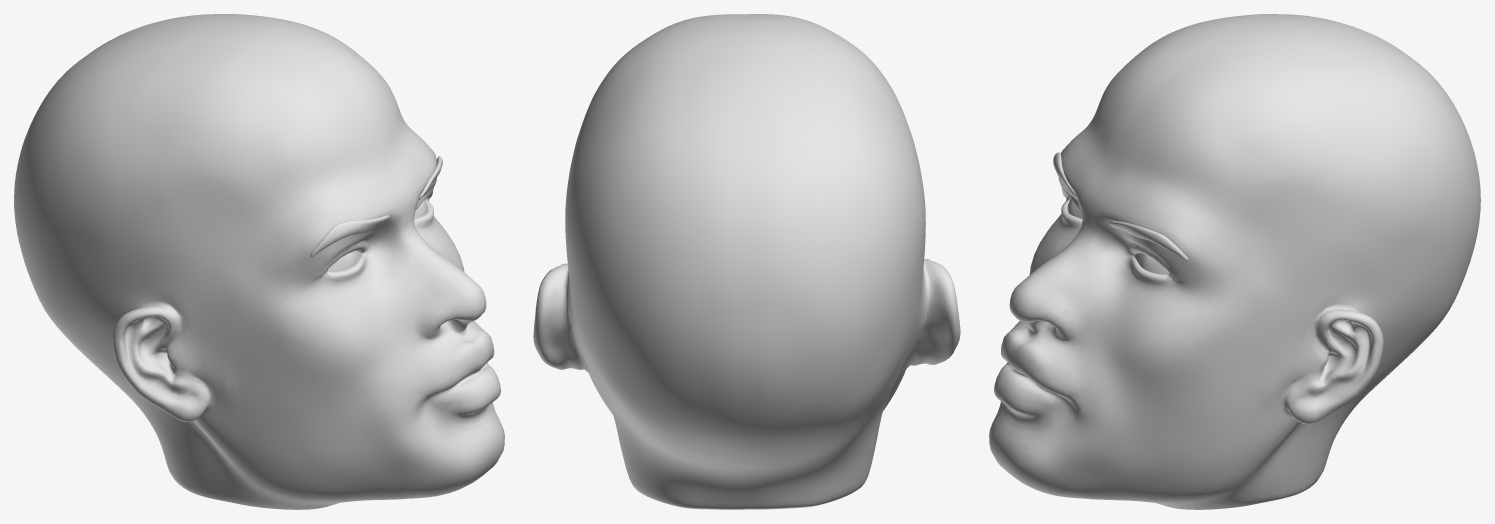
Rendered from 3D image.glb.
The picture shows the model from 3 angles, left to right: view 1: azimuth 30°, elevation 25°; view 2: azimuth 150°, elevation 25°; view 3: azimuth 270°, elevation 25°; orthographic projection. The views are drawn at different scales.
Visible parts, largest first — view 1: node_id41; view 2: node_id41; view 3: node_id41.
Part boxes in pixels (bbox=[...]): node_id41: bbox=[14, 14, 504, 509]; node_id41: bbox=[533, 14, 960, 509]; node_id41: bbox=[989, 14, 1480, 509].
Size of the model in its own units: 0.3869 by 0.4559 by 0.4777.
1 material, 1 textured.
